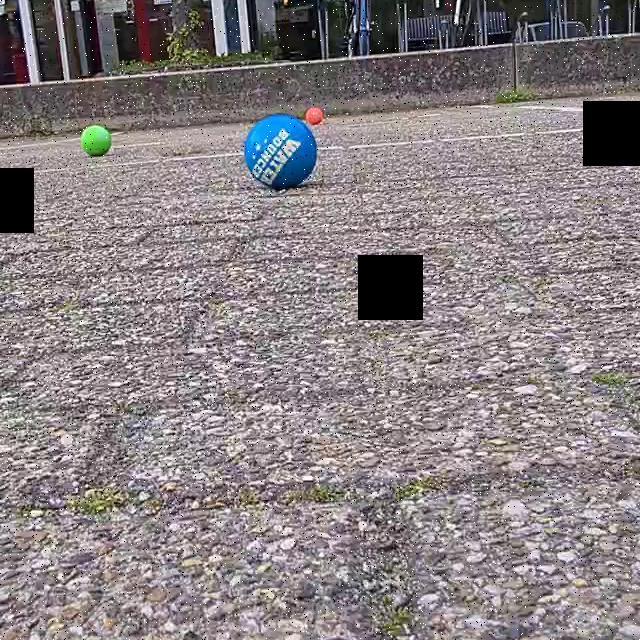ball: (78, 123, 112, 159), (304, 104, 326, 127)
